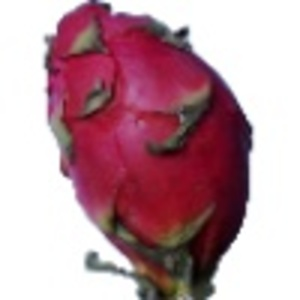pitaia: (43, 1, 255, 300)
